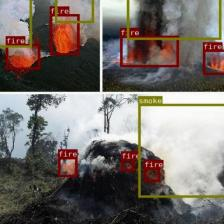fire: (119, 35, 178, 67), (49, 14, 79, 55), (6, 43, 40, 69), (202, 49, 224, 74), (58, 157, 77, 176), (143, 168, 160, 181), (121, 159, 134, 170)
smoke: (137, 103, 224, 197), (126, 0, 220, 39), (0, 0, 31, 46), (54, 0, 93, 22)
